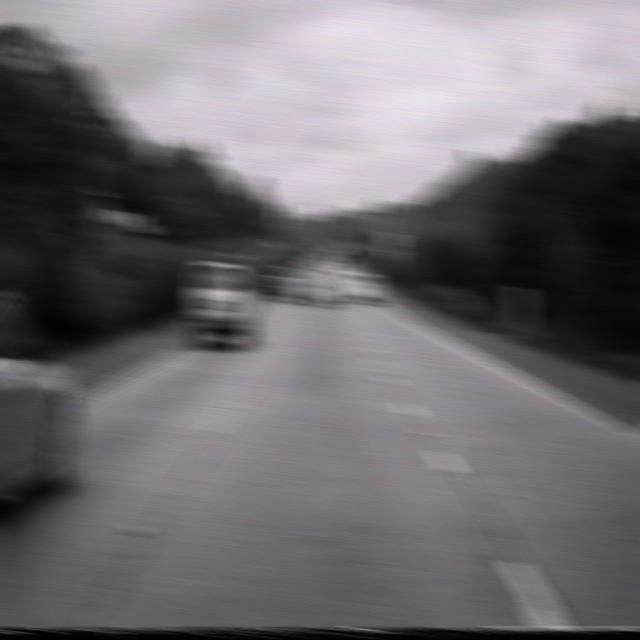speedLimit65: (382, 230, 402, 256)
